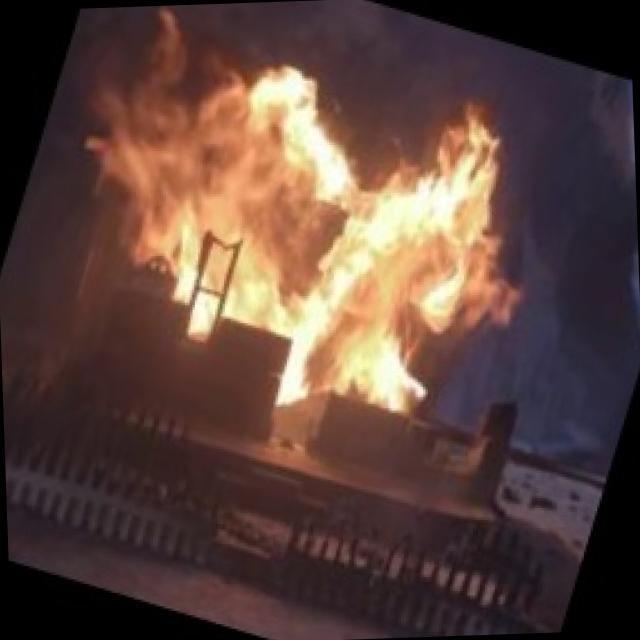fire: (69, 0, 584, 453)
